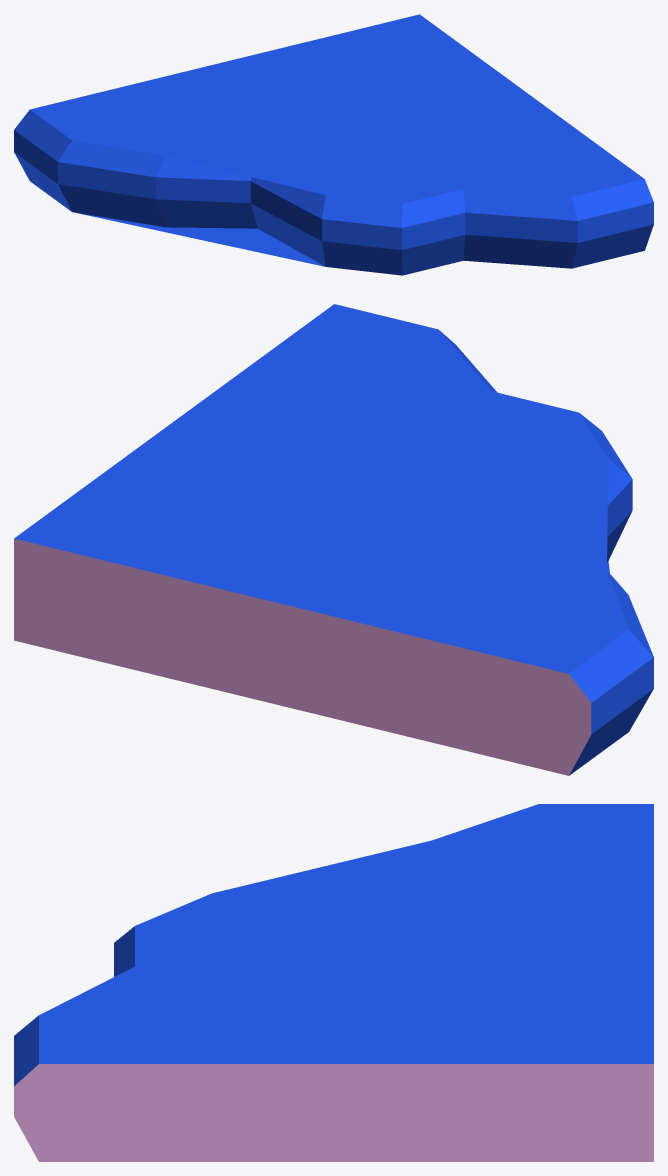
Rendered from Iceberg_Curve_Outer_3x3_2.glb.
The picture shows the model from 3 angles, top to bottom: view 1: azimuth 30°, elevation 25°; view 2: azimuth 150°, elevation 25°; view 3: azimuth 270°, elevation 25°; orthographic projection. The views are drawn at different scales.
Parts seen in each view (by area): view 1: Iceberg_Curve_Outer_3x3_2; view 2: Iceberg_Curve_Outer_3x3_2; view 3: Iceberg_Curve_Outer_3x3_2.
Part boxes in pixels (x1,y1,x2,y2): Iceberg_Curve_Outer_3x3_2: [14, 14, 653, 275]; Iceberg_Curve_Outer_3x3_2: [14, 304, 653, 775]; Iceberg_Curve_Outer_3x3_2: [14, 804, 653, 1161].
Size of the model in its own units: 241 by 40.63 by 241.
